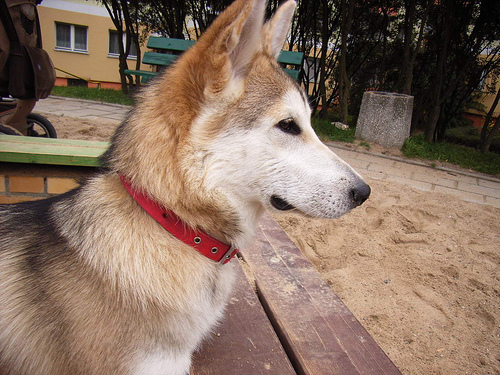dog: (2, 1, 375, 374)
